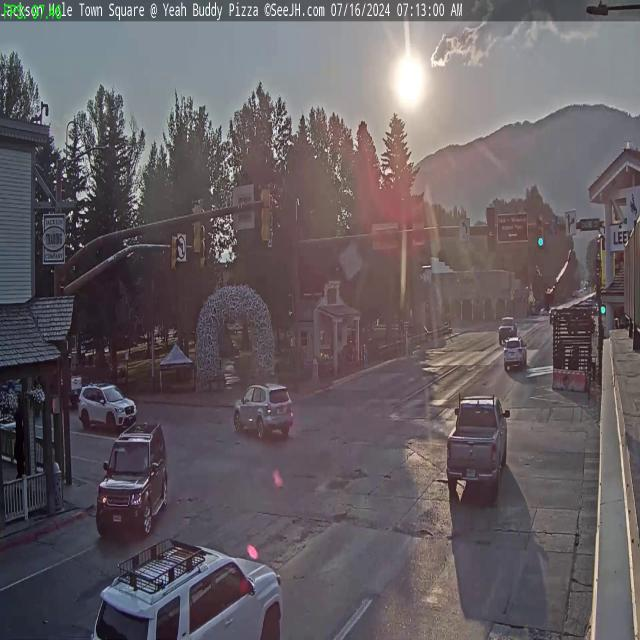pickup: (449, 397, 506, 500)
suv: (91, 534, 286, 639), (94, 429, 166, 527), (234, 382, 294, 442), (78, 381, 136, 432), (503, 336, 528, 369)
traffic light: (261, 183, 273, 244), (190, 200, 203, 255), (165, 233, 179, 282), (487, 207, 496, 250), (536, 215, 544, 248)
